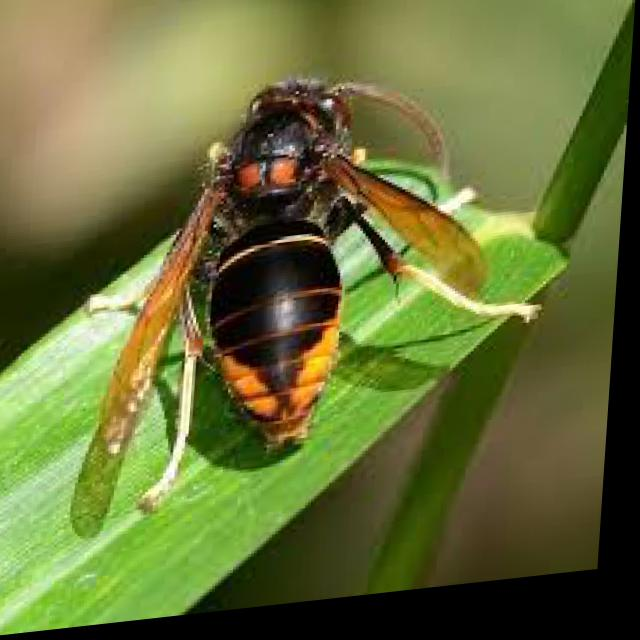Vespa Velutina: (75, 56, 566, 526)
